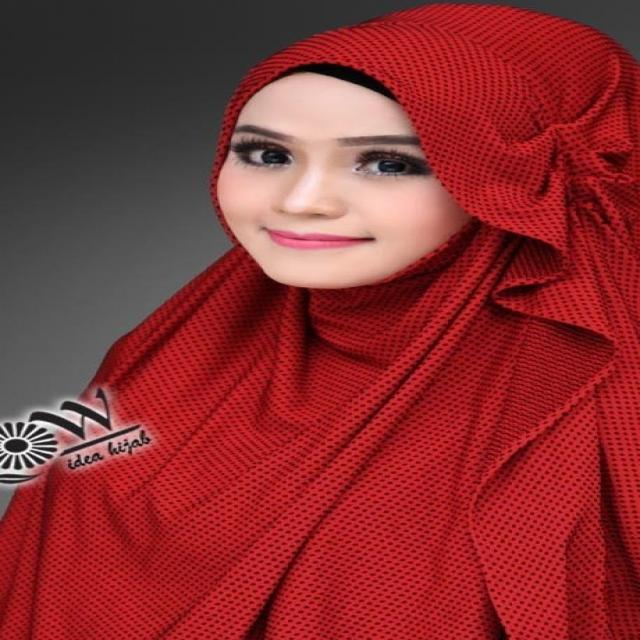head: (187, 1, 640, 294)
